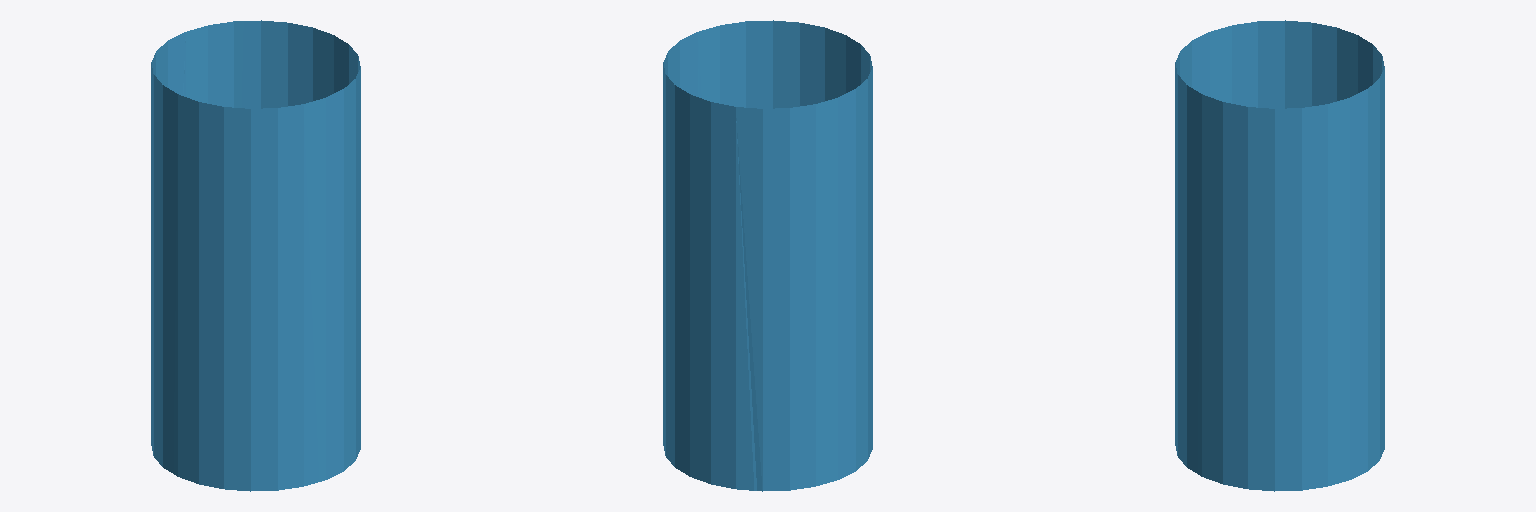
The robot description file, URDF, robot "partnet_5ca994bd512be485db3bac7ad77ae88e":
<?xml version="1.0" ?>
<robot name="partnet_5ca994bd512be485db3bac7ad77ae88e">
	<link name="base"/>
	<link name="link_0">
		<visual name="pressing_lid-4">
			<origin xyz="0.008755063991076967 0 0.01370572210229435"/>
			<geometry>
				<mesh filename="textured_objs/original-2.obj"/>
			</geometry>
		</visual>
		<visual name="pressing_lid-4">
			<origin xyz="0.008755063991076967 0 0.01370572210229435"/>
			<geometry>
				<mesh filename="textured_objs/original-3.obj"/>
			</geometry>
		</visual>
		<visual name="pressing_lid-4">
			<origin xyz="0.008755063991076967 0 0.01370572210229435"/>
			<geometry>
				<mesh filename="textured_objs/original-4.obj"/>
			</geometry>
		</visual>
		<collision>
			<origin xyz="0.008755063991076967 0 0.01370572210229435"/>
			<geometry>
				<mesh filename="textured_objs/original-2.obj"/>
			</geometry>
		</collision>
		<collision>
			<origin xyz="0.008755063991076967 0 0.01370572210229435"/>
			<geometry>
				<mesh filename="textured_objs/original-3.obj"/>
			</geometry>
		</collision>
		<collision>
			<origin xyz="0.008755063991076967 0 0.01370572210229435"/>
			<geometry>
				<mesh filename="textured_objs/original-4.obj"/>
			</geometry>
		</collision>
	</link>
	<joint name="joint_0" type="continuous">
		<origin xyz="0.0 0 0.0"/>
		<axis xyz="0 1 0"/>
		<child link="link_0"/>
		<parent link="link_0_helper"/>
	</joint>
	<link name="link_1">
		<visual name="base_body-5">
			<origin xyz="0 0 0"/>
			<geometry>
				<mesh filename="textured_objs/original-1.obj"/>
			</geometry>
		</visual>
		<collision>
			<origin xyz="0 0 0"/>
			<geometry>
				<mesh filename="textured_objs/original-1.obj"/>
			</geometry>
		</collision>
	</link>
	<joint name="joint_1" type="fixed">
		<origin rpy="1.570796326794897 0 -1.570796326794897" xyz="0 0 0"/>
		<child link="link_1"/>
		<parent link="base"/>
	</joint>
	<link name="link_0_helper"/>
	<joint name="joint_2" type="prismatic">
		<origin xyz="-0.008755063991076967 0 -0.01370572210229435"/>
		<axis xyz="0 -1 0"/>
		<child link="link_0_helper"/>
		<parent link="link_1"/>
		<limit lower="0" upper="0.0960000000000001"/>
	</joint>
</robot>

--- Facts derived from the render (not from the file) ---
The picture shows the robot from 3 angles, left to right: view 1: azimuth 30°, elevation 25°; view 2: azimuth 150°, elevation 25°; view 3: azimuth 270°, elevation 25°; orthographic projection.
Model partnet_5ca994bd512be485db3bac7ad77ae88e with 4 links and 3 joints (1 continuous, 1 prismatic, 1 fixed), rooted at base, posed every joint at zero.
Visible links, largest first — view 1: link_0; view 2: link_0; view 3: link_0.
Boxes of the visible links, x1,y1,x2,y2 form: link_0: (151,20,360,491); link_0: (663,20,872,491); link_0: (1175,20,1384,491).
Size in the robot's own frame: 0.083 by 0.083 by 0.1675 metres.
Meshes: 4 distinct files referenced, 2 mesh visuals loaded (2 OBJ); not drawn: 2 (reference not matched to a file when rendering).